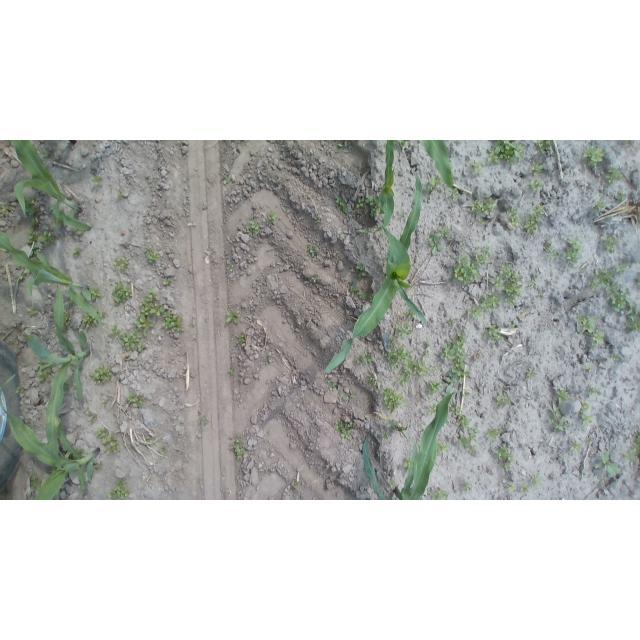Maize: (322, 172, 430, 379), (362, 390, 483, 500), (0, 374, 100, 500), (25, 284, 92, 468), (0, 231, 104, 329), (4, 140, 92, 232), (369, 141, 398, 238), (420, 140, 458, 190)
Weeds: (442, 330, 471, 387), (491, 265, 526, 307), (135, 291, 166, 337), (397, 355, 441, 385), (601, 278, 630, 310), (487, 140, 525, 164), (467, 293, 499, 319), (470, 197, 498, 226), (453, 256, 480, 285), (384, 339, 409, 369), (25, 218, 56, 242), (458, 421, 479, 456), (427, 225, 450, 256), (380, 415, 407, 440), (582, 146, 605, 175), (96, 429, 120, 455), (495, 445, 517, 473), (524, 204, 544, 234), (383, 388, 406, 413), (356, 194, 382, 216), (549, 406, 571, 432), (595, 451, 618, 474), (589, 270, 612, 293), (112, 282, 133, 307), (122, 331, 147, 352), (563, 236, 581, 264), (164, 310, 185, 333), (108, 480, 131, 500), (229, 438, 249, 461), (349, 287, 376, 304), (625, 434, 640, 464), (626, 304, 640, 333), (336, 420, 356, 440), (91, 365, 113, 383), (577, 314, 596, 334), (484, 324, 504, 342), (455, 408, 470, 431), (507, 205, 522, 226), (506, 482, 530, 495), (544, 237, 557, 261), (606, 168, 624, 185), (244, 221, 262, 238), (143, 247, 161, 264), (581, 403, 594, 426), (602, 236, 619, 253), (126, 394, 144, 409), (476, 247, 491, 265), (354, 353, 374, 366), (92, 174, 107, 191), (23, 197, 37, 215), (527, 178, 545, 192), (306, 240, 318, 260), (112, 257, 128, 272), (84, 406, 98, 423), (395, 323, 412, 337), (69, 248, 87, 261), (336, 196, 349, 214), (62, 309, 72, 332), (609, 349, 624, 364), (495, 394, 511, 408), (535, 140, 553, 152), (88, 286, 103, 300), (335, 141, 351, 154), (427, 382, 443, 395), (38, 366, 51, 382), (430, 490, 450, 500), (531, 474, 544, 488), (42, 145, 55, 159), (591, 333, 605, 346), (531, 162, 545, 175), (557, 389, 570, 403), (487, 427, 502, 439), (592, 201, 608, 212), (164, 277, 177, 290), (226, 311, 239, 324), (355, 263, 367, 277), (429, 174, 441, 188), (82, 315, 95, 327), (470, 160, 482, 173), (109, 325, 120, 339), (29, 473, 40, 487), (367, 375, 378, 389), (529, 275, 539, 290), (437, 440, 449, 452), (313, 213, 324, 226), (616, 263, 629, 274), (587, 388, 602, 397), (326, 378, 337, 390), (344, 391, 356, 402), (450, 189, 462, 200), (506, 321, 519, 331), (226, 264, 239, 274), (28, 305, 39, 316), (267, 212, 277, 224), (424, 342, 433, 355), (1, 203, 10, 216), (570, 441, 581, 451), (617, 192, 628, 202), (15, 385, 26, 395), (221, 174, 230, 185), (201, 416, 210, 427), (428, 405, 437, 415), (388, 480, 397, 490), (145, 435, 153, 446), (449, 317, 458, 326), (228, 366, 237, 375), (405, 311, 414, 320), (100, 311, 108, 321), (403, 458, 411, 468), (237, 333, 245, 343), (579, 269, 588, 277), (525, 369, 533, 378), (157, 446, 166, 454), (291, 480, 299, 488), (463, 482, 470, 491), (459, 245, 467, 252), (268, 357, 275, 364), (586, 367, 594, 373), (622, 140, 633, 144), (312, 277, 318, 284), (586, 442, 594, 447), (637, 277, 640, 286)
